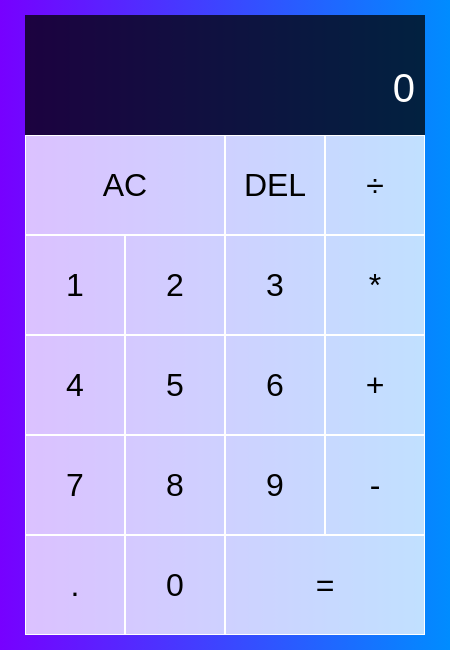
calculator › correctly handles normal calculations
Click the button "4" at (75, 385), box 25,335 -> 125,435
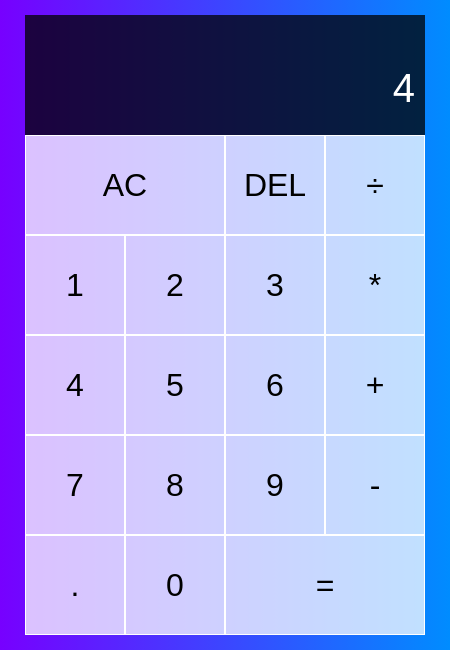
Click the button "." at (75, 585), box 25,535 -> 125,635
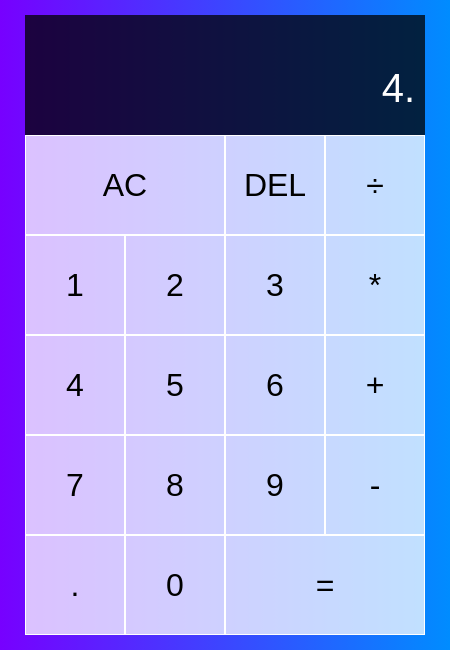
Click the button "1" at (75, 285), box 25,235 -> 125,335
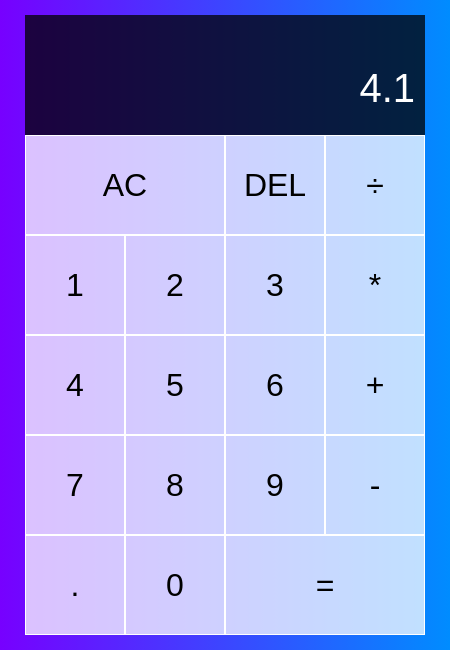
Result: the text "4.1" is shown at 359,66 -> 415,111
Click the button "+" at (375, 385), box 325,335 -> 425,435
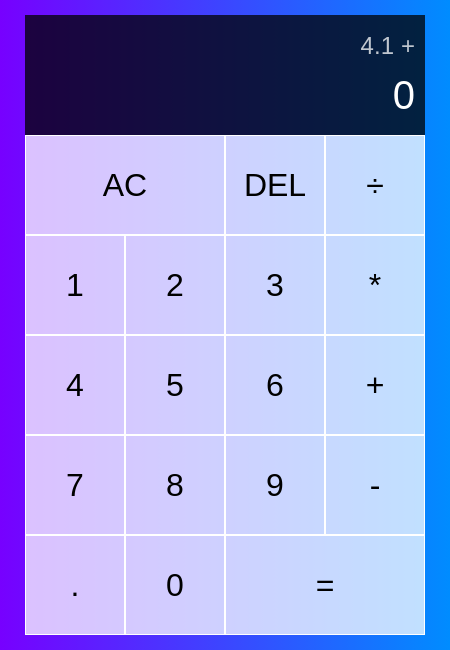
Result: the text with class "secondary-operand" reads "4.1" at 361,32 -> 394,60
Result: the text "0" is shown at 393,73 -> 415,118
Result: the text "+" is shown at 401,32 -> 415,60
Click the button "6" at (275, 385), box 225,335 -> 325,435
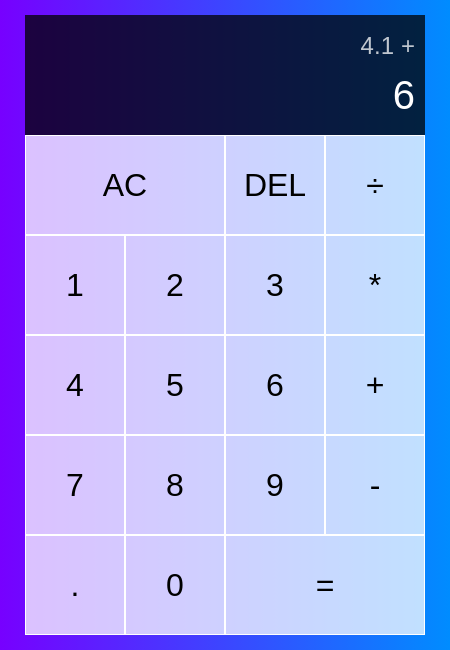
Result: the text "6" is shown at 393,73 -> 415,118
Click the button "=" at (325, 585), box 225,535 -> 425,635
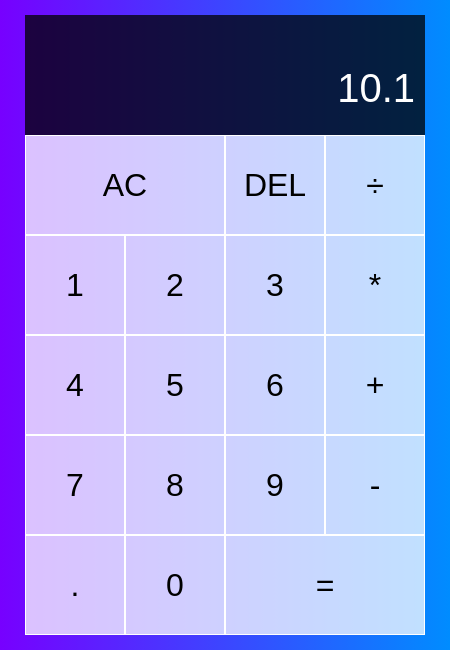
Result: the text "10.1" is shown at 337,66 -> 415,111
